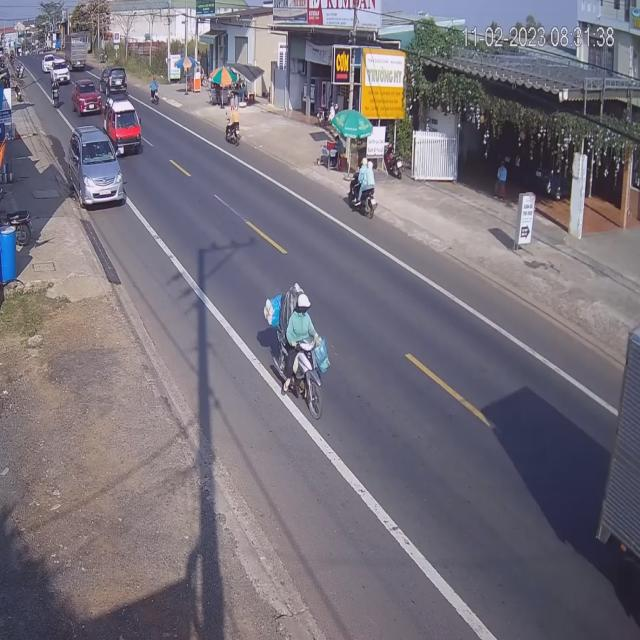car: (67, 129, 123, 212), (104, 98, 144, 159), (72, 77, 101, 118), (102, 64, 128, 92), (54, 59, 72, 85), (42, 52, 53, 76)
motorbike: (272, 280, 327, 421), (348, 162, 376, 218), (227, 108, 242, 146), (150, 76, 160, 108)
truck: (604, 318, 637, 640), (64, 38, 85, 67)
